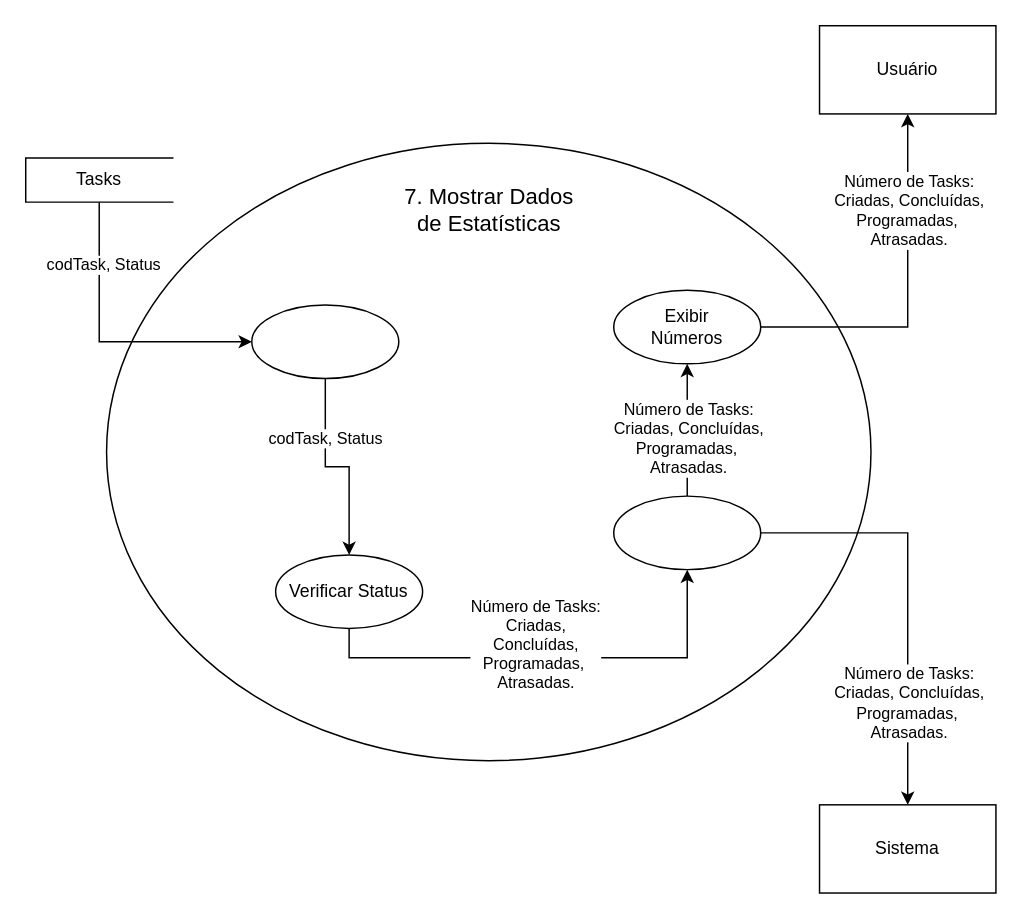
The diagram is 1022 pixels wide and 919 high, and some of its shapes have lost their labels. The box of each missing label's shape, as (x1, y1, x2, y2) in pixels:
Consultar Tasks Criadas: (250, 304, 399, 379)
Registrar Informações: (612, 495, 761, 570)
